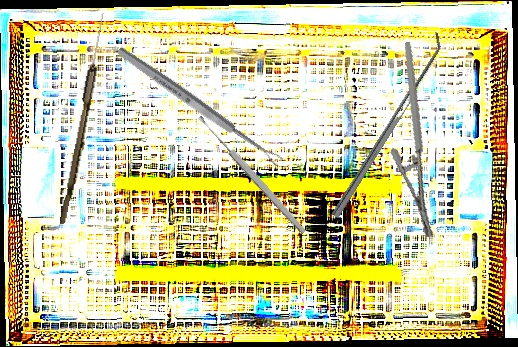Needle Holder: (363, 41, 475, 239)
Spatula Surgical: (324, 31, 450, 219)
Surgical Spoon: (115, 44, 284, 169), (196, 113, 308, 236), (59, 11, 108, 226)
